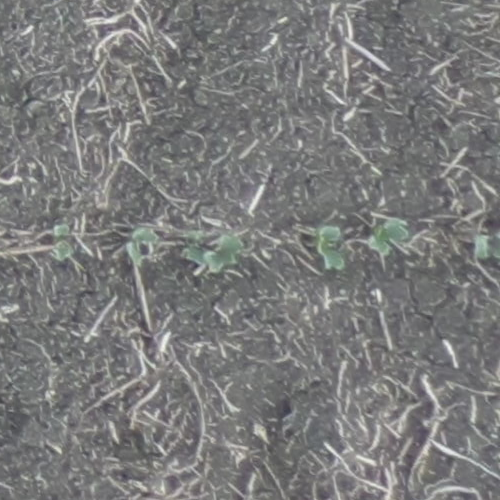plant: (179, 229, 244, 272), (365, 217, 411, 258), (312, 224, 348, 273), (126, 226, 159, 267), (51, 221, 75, 260)
